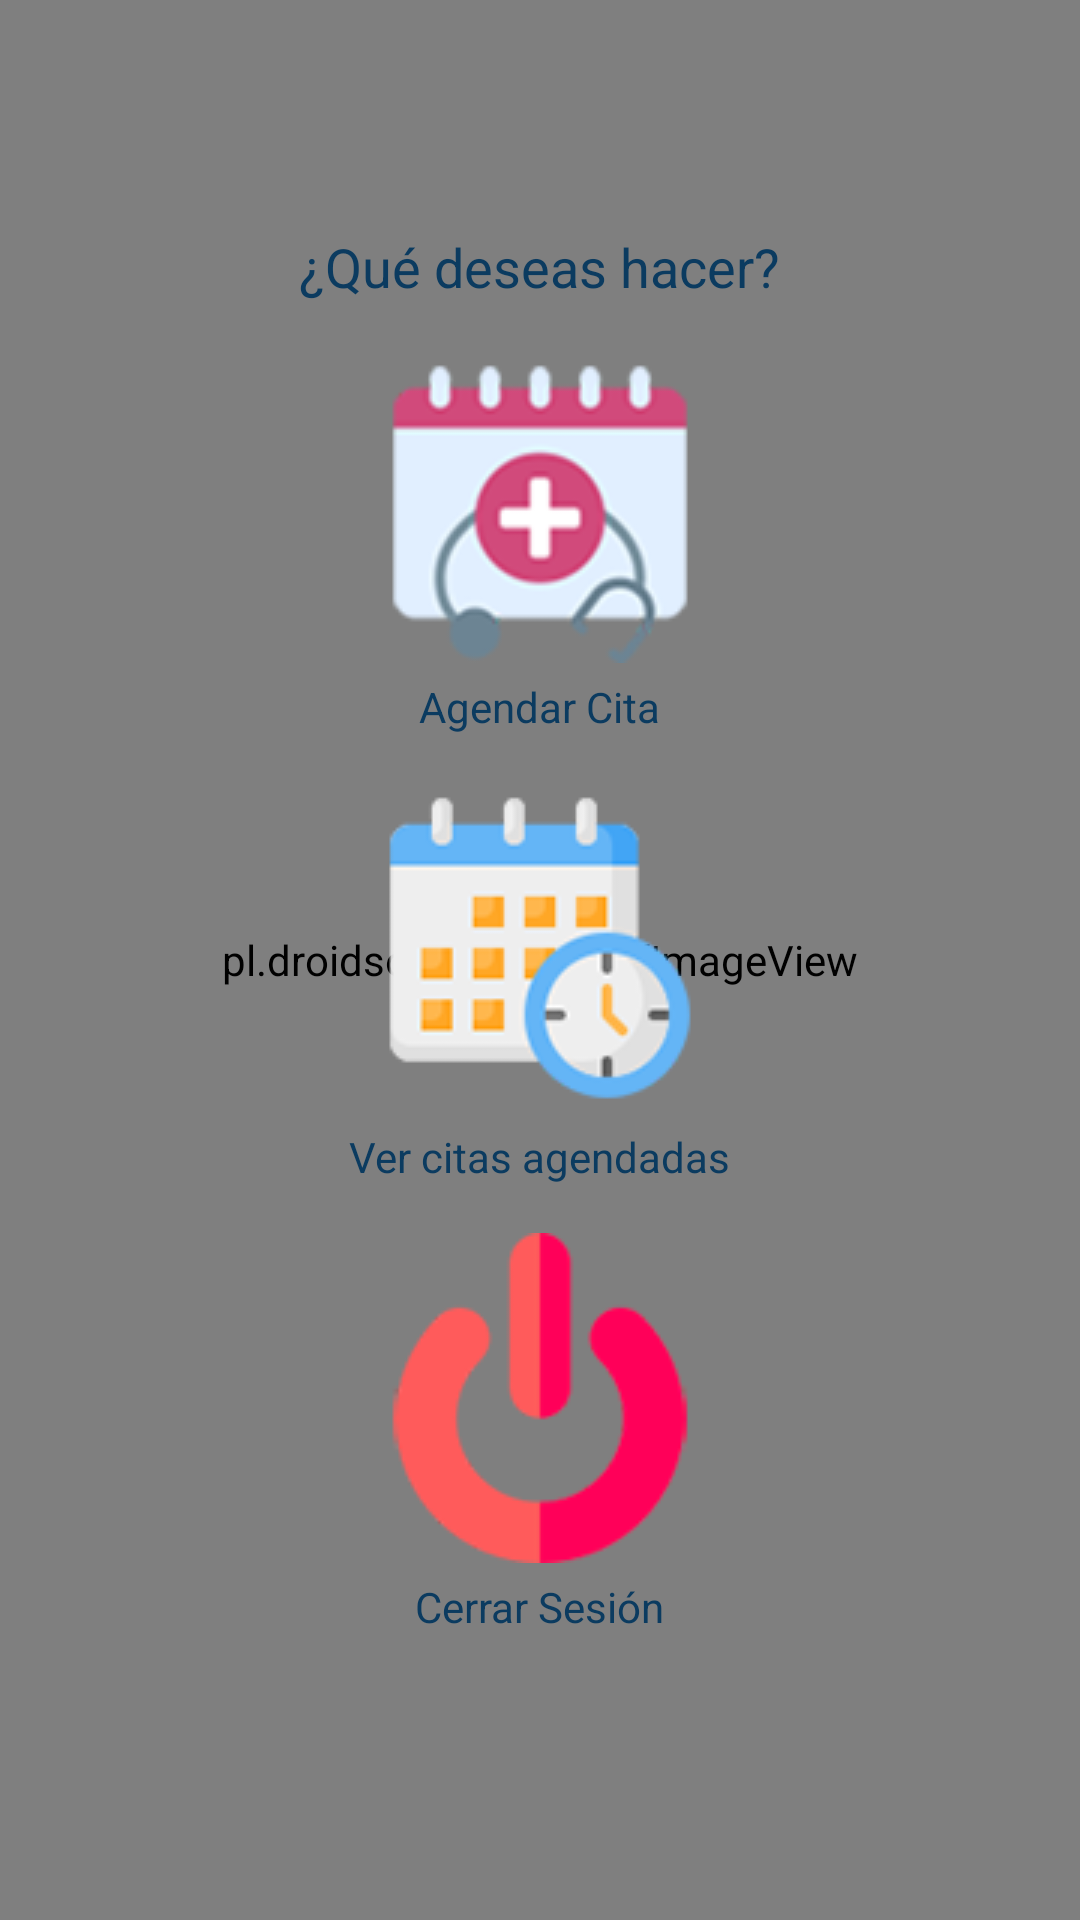

Locate icon controls on the screen. Image size 1080x1920, boxes as (x1, y1, x2, y2).
add available appointments: (392, 365, 688, 625)
schedule: (387, 797, 695, 1099)
